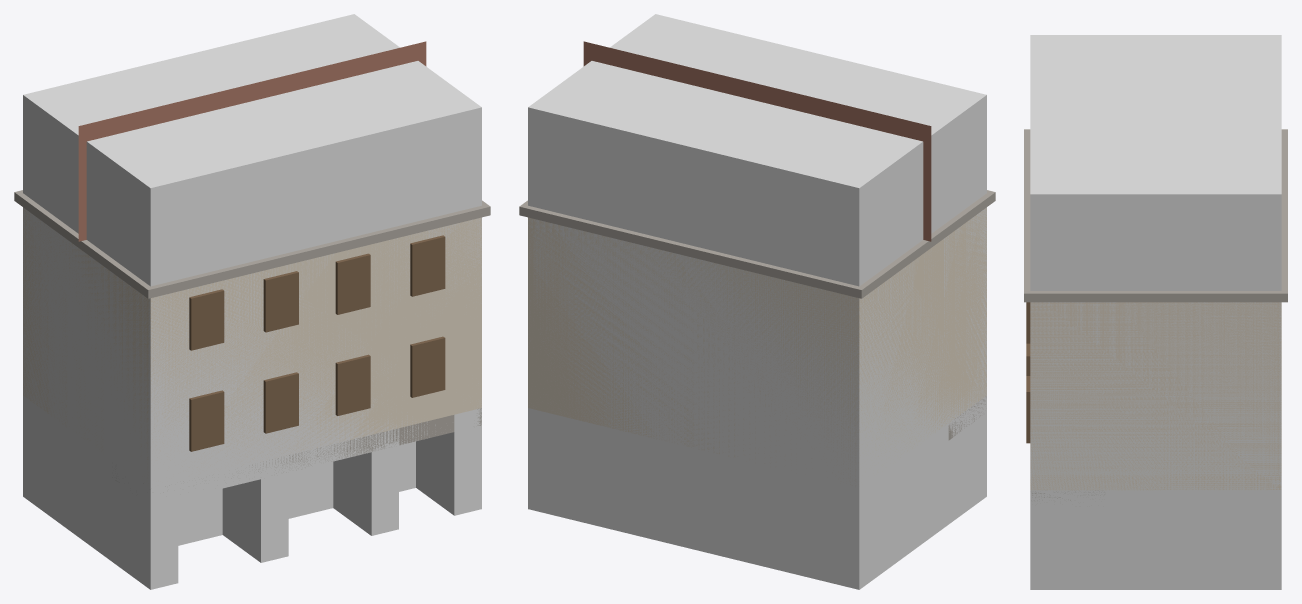
Rendered from tenement.glb.
3 renders of one model, left to right at view 1: azimuth 30°, elevation 25°; view 2: azimuth 150°, elevation 25°; view 3: azimuth 270°, elevation 25°, orthographic.
Visible parts, largest first — view 1: tenement-col, tenement; view 2: tenement-col, tenement; view 3: tenement-col, tenement.
Boxes of the visible parts, <box> form: tenement-col: <box>23,14,481,589</box>; tenement: <box>14,41,490,492</box>; tenement-col: <box>528,14,986,589</box>; tenement: <box>519,41,995,486</box>; tenement-col: <box>1030,35,1281,589</box>; tenement: <box>1024,129,1287,500</box>.
Size of the model in its own units: 12.6 by 14.5 by 8.4.
